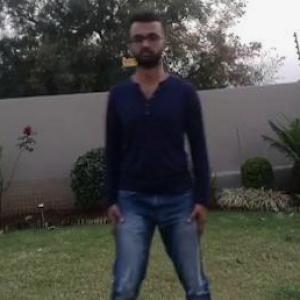follow: (95, 10, 206, 299)
